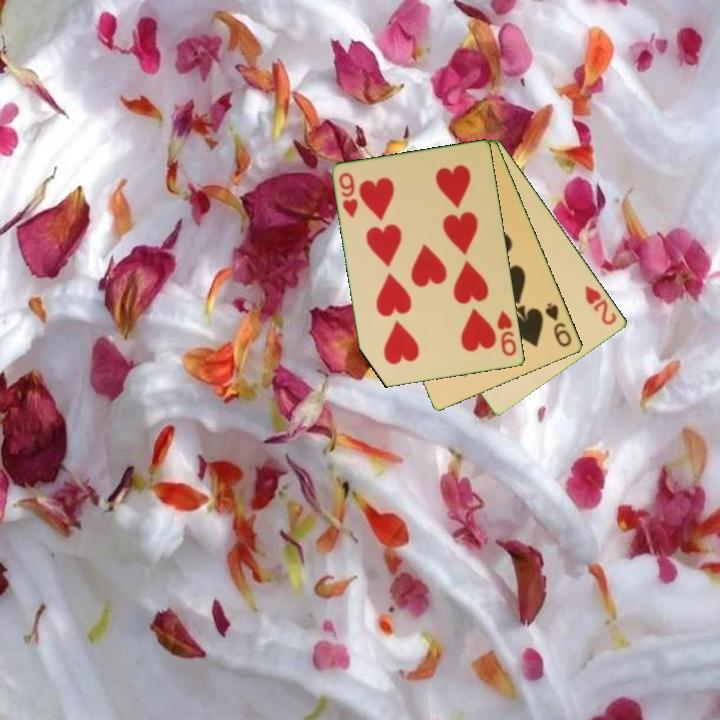2h: (582, 282, 620, 328)
9h: (494, 307, 520, 359), (335, 169, 361, 221)
9s: (542, 299, 575, 350)
